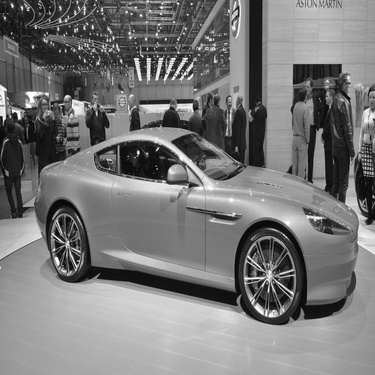car: (27, 121, 363, 329)
